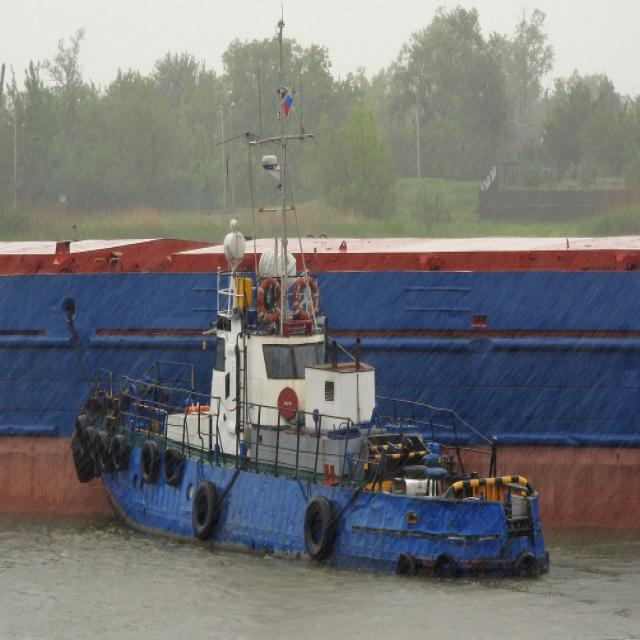tugboat: (69, 211, 563, 600)
